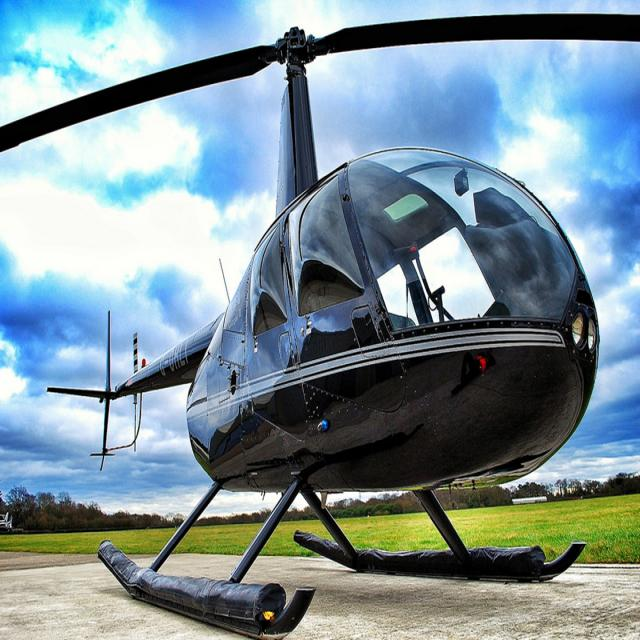helicopter: (1, 29, 640, 633)
